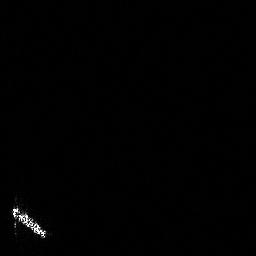ship: (7, 201, 50, 242)
